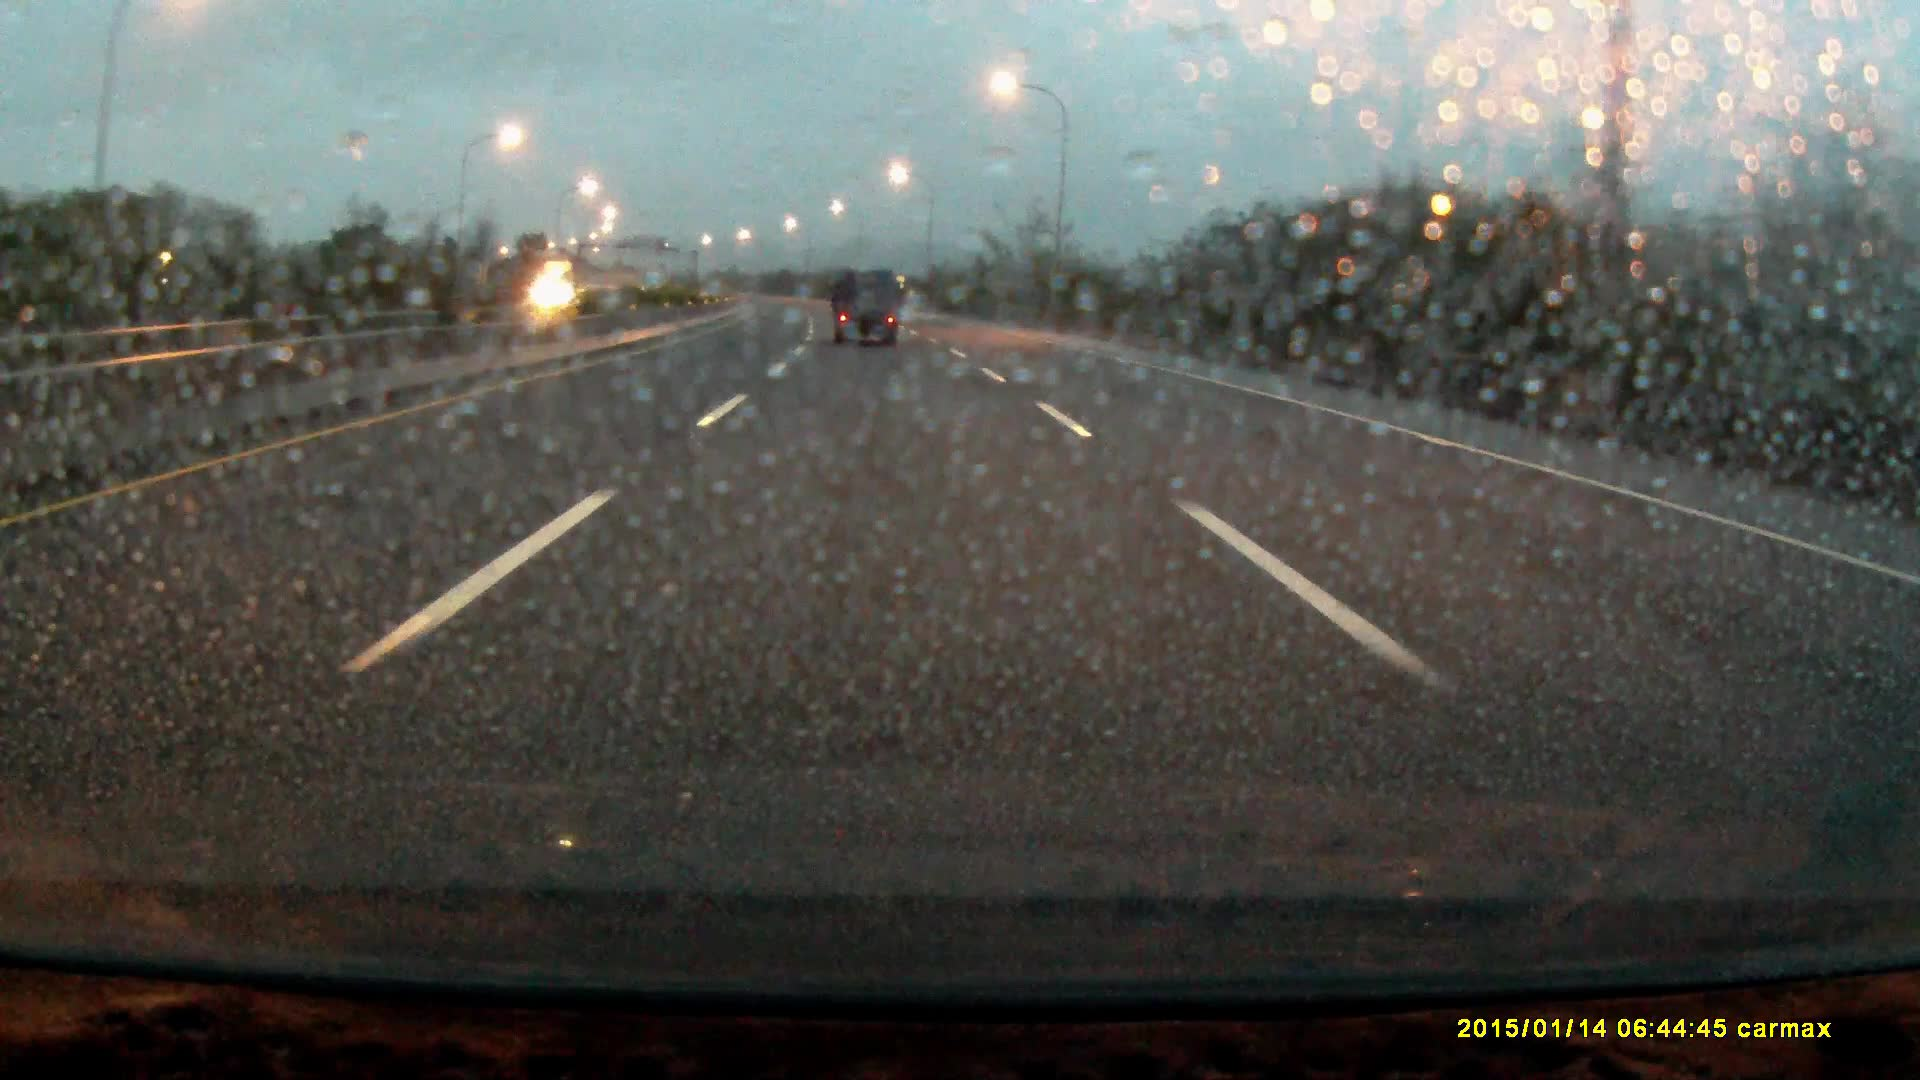vehicle: (833, 272, 903, 352), (538, 261, 615, 324)
